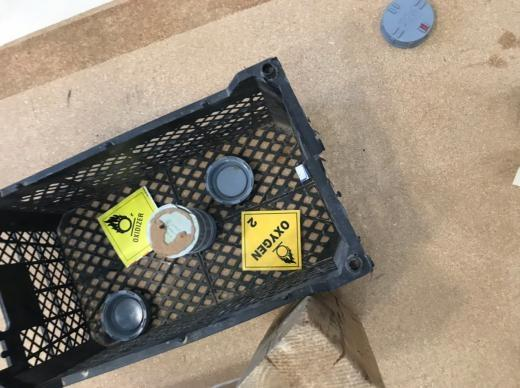oxidizer: (96, 186, 166, 264), (241, 210, 301, 269)
